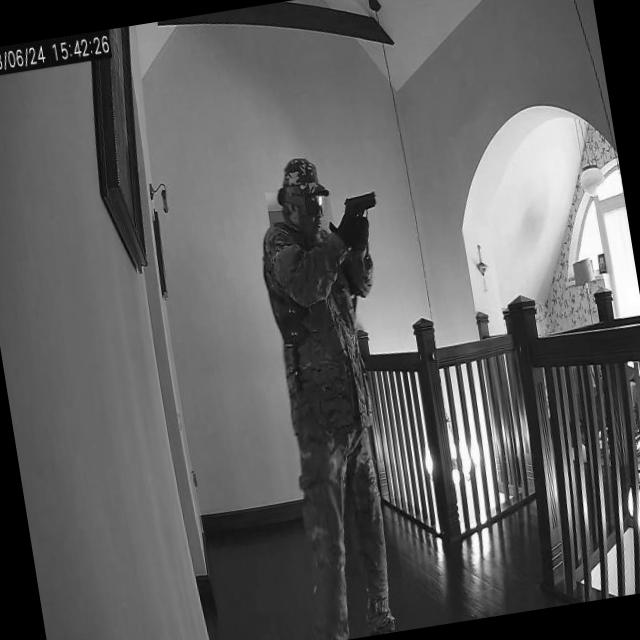gun: (342, 188, 385, 238)
person with a gun: (245, 143, 450, 640)
